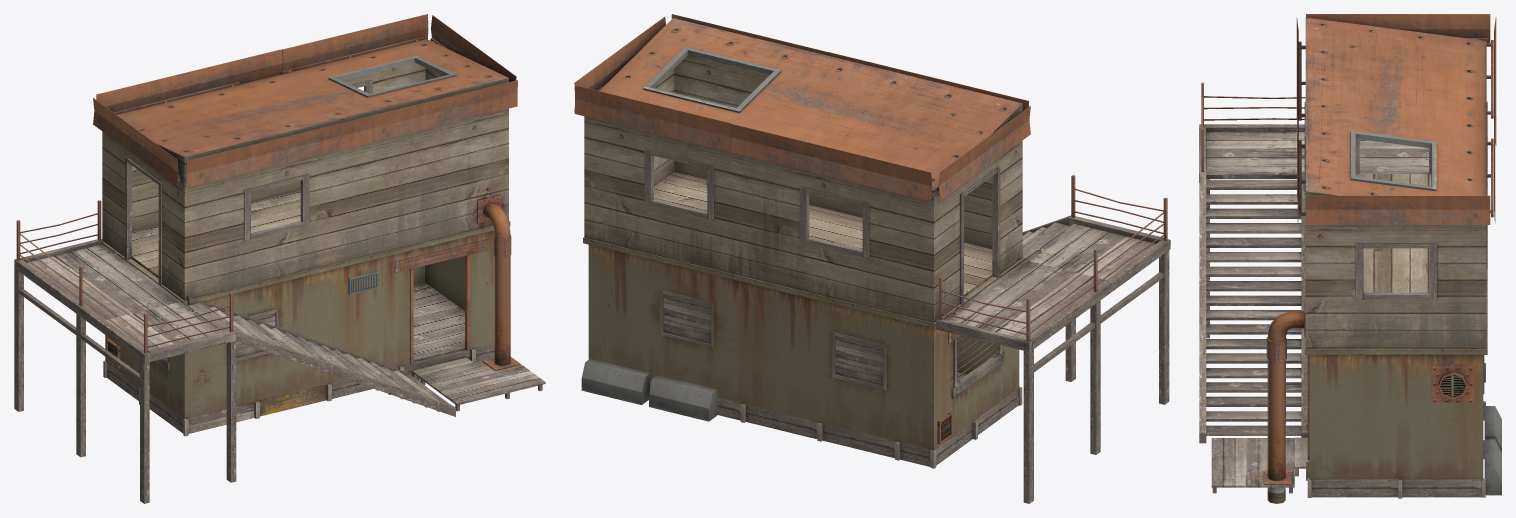
3 renders of one model, left to right at view 1: azimuth 30°, elevation 25°; view 2: azimuth 150°, elevation 25°; view 3: azimuth 270°, elevation 25°, orthographic. The views are drawn at different scales.
Visible parts, largest first — view 1: 2ND Building, 1ST Building, 3 Sets; view 2: 2ND Building, 1ST Building, 3 Sets; view 3: 2ND Building, 3 Sets, 1ST Building.
Boxes of the visible parts, x1=… form: 2ND Building: x1=93, y1=14, x2=517, y2=300; 1ST Building: x1=103, y1=221, x2=510, y2=436; 3 Sets: x1=14, y1=195, x2=545, y2=503; 2ND Building: x1=574, y1=14, x2=1030, y2=322; 1ST Building: x1=583, y1=237, x2=1024, y2=468; 3 Sets: x1=581, y1=175, x2=1170, y2=503; 2ND Building: x1=1296, y1=14, x2=1496, y2=348; 3 Sets: x1=1199, y1=82, x2=1501, y2=503; 1ST Building: x1=1294, y1=192, x2=1487, y2=498.
Bounding box in the file's own units: 18.39 × 12.16 × 10.44.
3 materials, 3 textured.
